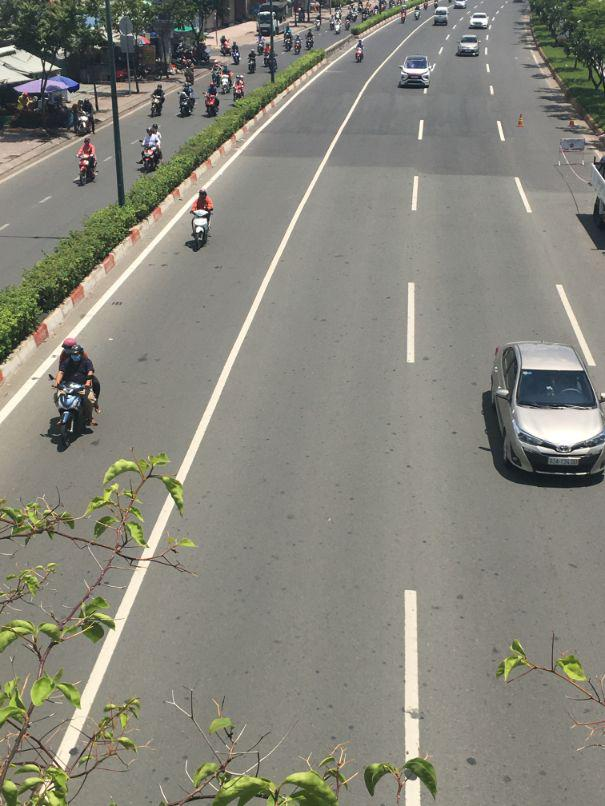car: (482, 337, 604, 482), (400, 54, 430, 87), (457, 34, 479, 57), (470, 13, 490, 31), (435, 10, 449, 27)
motorbike: (50, 373, 97, 449), (190, 211, 214, 252), (179, 93, 195, 118), (151, 91, 166, 117), (205, 93, 220, 118), (354, 45, 363, 64)
